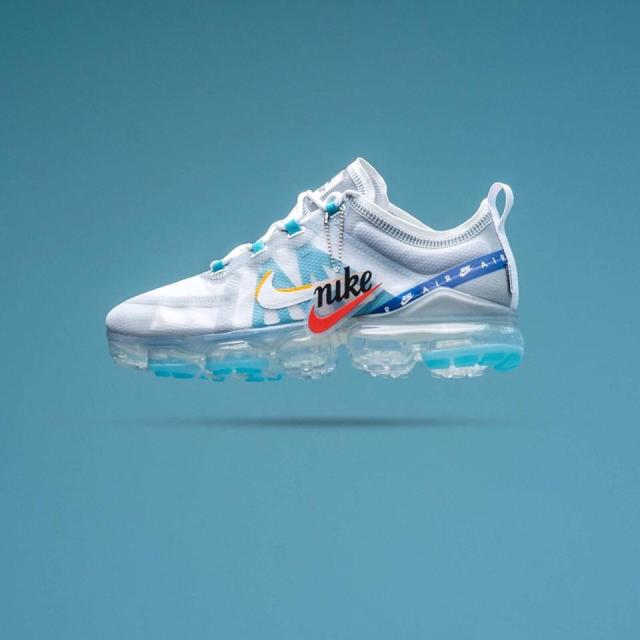shoe: (89, 149, 536, 407)
